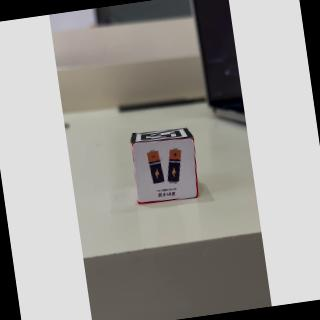Used_Battery: (128, 136, 203, 206)
